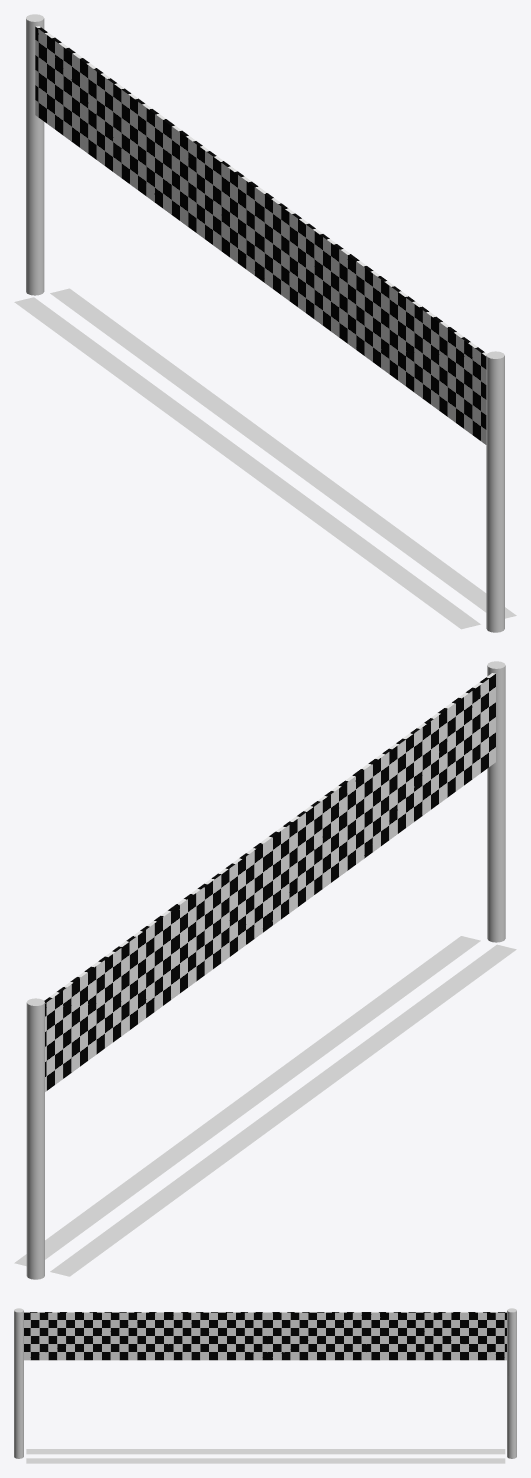
File: MOD_FinishLine.FBX
The picture shows the model from 3 angles, top to bottom: view 1: azimuth 30°, elevation 25°; view 2: azimuth 150°, elevation 25°; view 3: azimuth 270°, elevation 25°; orthographic projection. The views are drawn at different scales.
Visible parts, largest first — view 1: Flag, Stripe and Poles; view 2: Flag, Stripe and Poles; view 3: Flag, Stripe and Poles.
Part boxes in pixels (x1,y1,x2,y2): Flag: [35, 26, 486, 444]; Stripe and Poles: [14, 14, 516, 632]; Flag: [44, 673, 495, 1091]; Stripe and Poles: [14, 661, 516, 1279]; Flag: [24, 1312, 506, 1360]; Stripe and Poles: [14, 1308, 516, 1463].
Size of the model in its own units: 61.99 by 291 by 905.
Materials: 1 (1 with a texture image).
